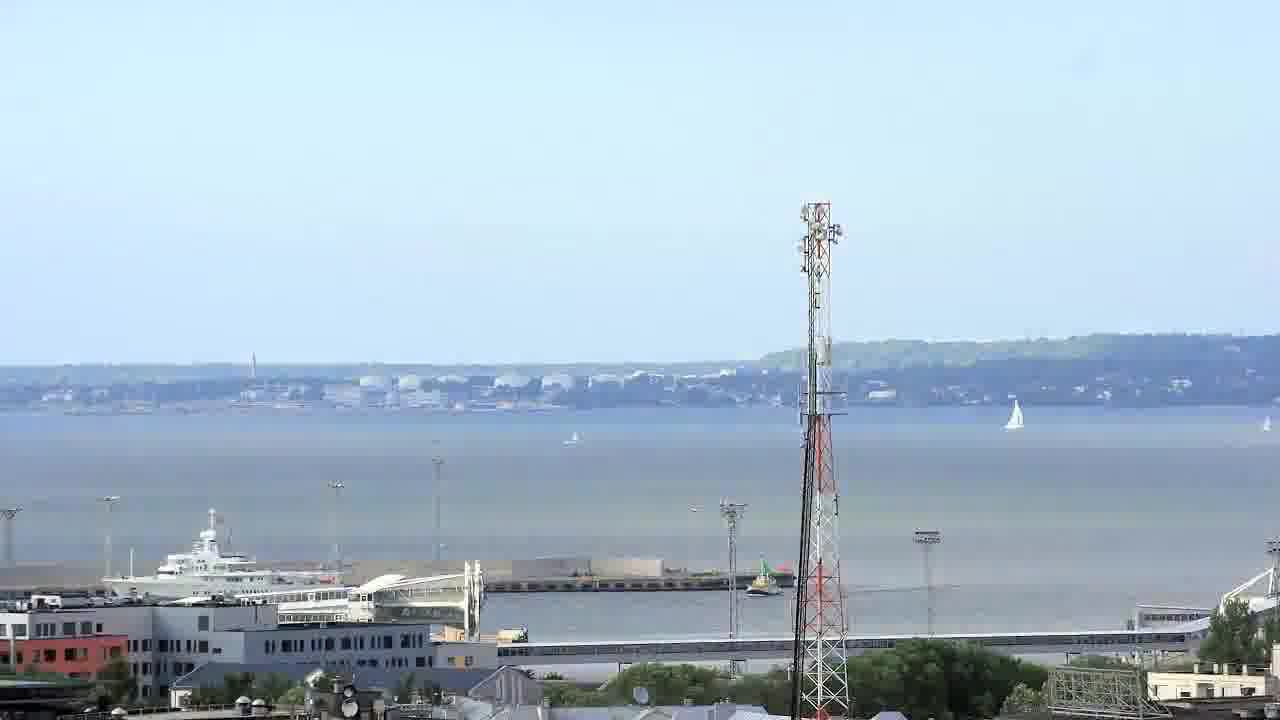type-0: (731, 559, 789, 608)
type-2: (994, 385, 1048, 446)
type-3: (88, 507, 346, 605)
